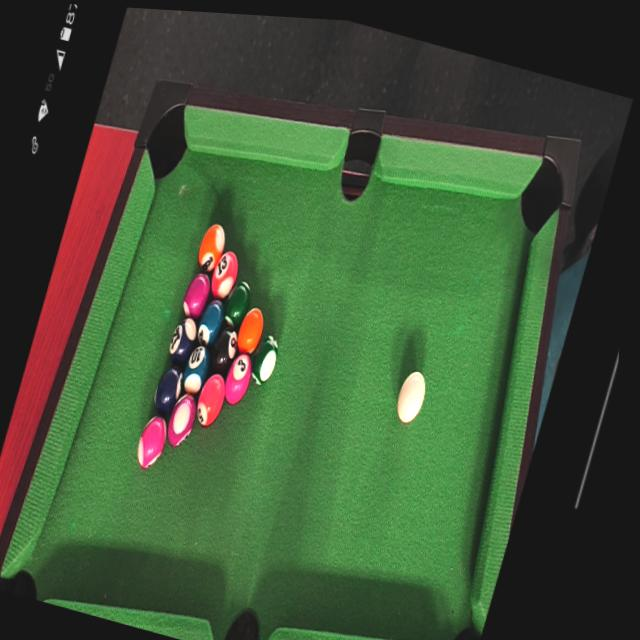cue ball: (391, 360, 434, 430)
other: (125, 399, 174, 479), (185, 363, 232, 442), (170, 337, 216, 407), (144, 357, 189, 428), (157, 386, 203, 453), (227, 298, 270, 367), (201, 243, 246, 306), (242, 330, 286, 390), (192, 213, 233, 276), (161, 307, 202, 367), (202, 323, 244, 381), (216, 349, 257, 406), (217, 268, 257, 326), (177, 270, 215, 322), (193, 294, 226, 340)
